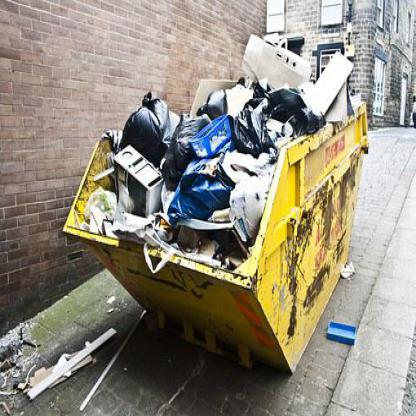Garbage: (45, 32, 358, 286)
